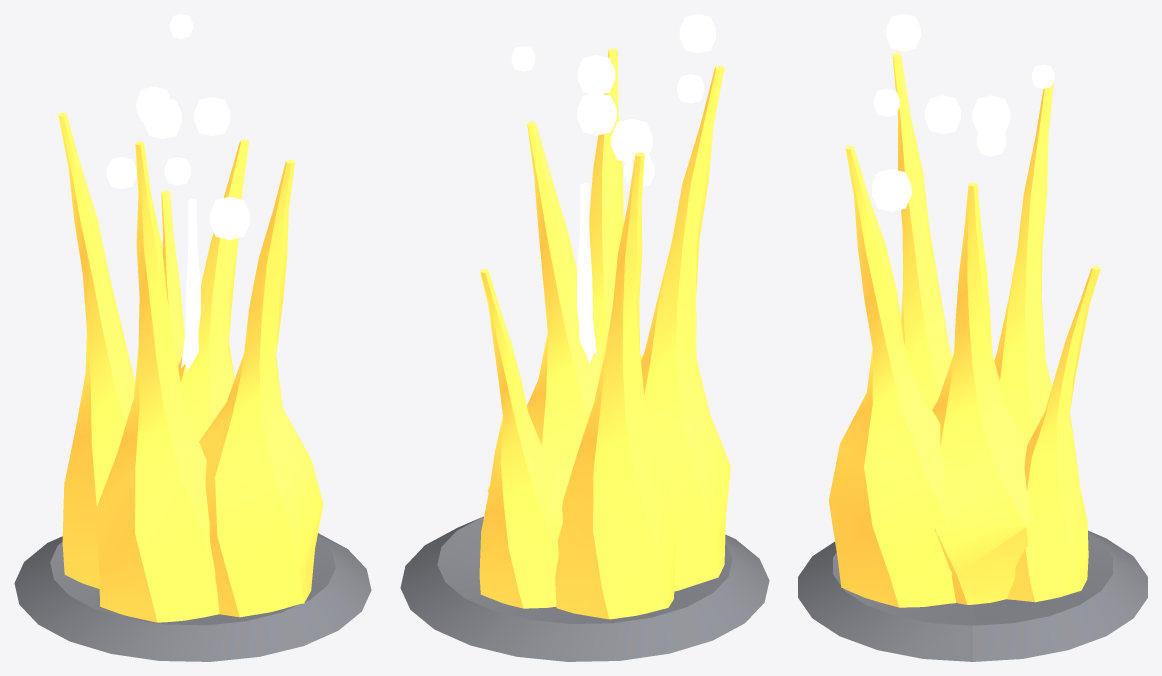
Rendered from vfx-mesh-library-fire-pillar-9f5a423d__21895.glb.
The picture shows the model from 3 angles, left to right: view 1: azimuth 30°, elevation 25°; view 2: azimuth 150°, elevation 25°; view 3: azimuth 270°, elevation 25°; orthographic projection. The views are drawn at different scales.
Parts seen in each view (by area): view 1: fire-pillar; view 2: fire-pillar; view 3: fire-pillar.
Boxes of the visible parts, x1=… form: fire-pillar: x1=14, y1=14, x2=371, y2=661; fire-pillar: x1=400, y1=14, x2=769, y2=661; fire-pillar: x1=798, y1=14, x2=1147, y2=661.
Bounding box in the file's own units: 0.6 × 1.01 × 0.5939.
